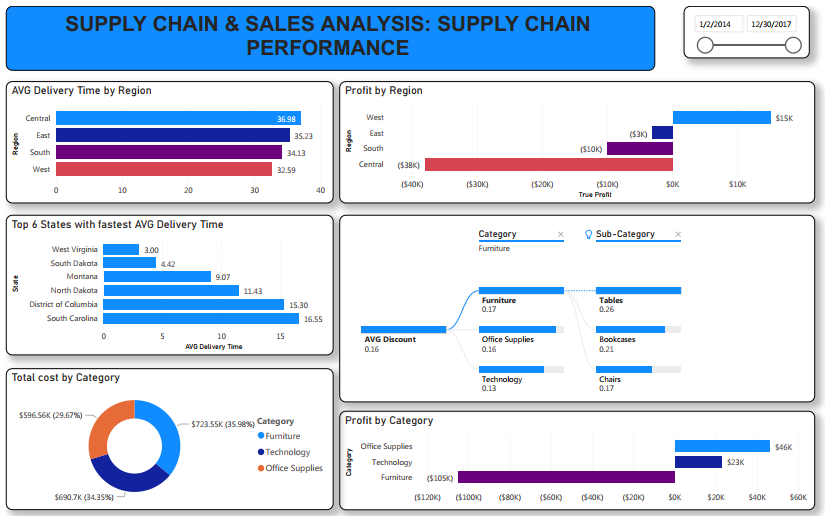

This screenshot's page, from the dashboard's own definition file:
{"tool":"powerbi","page":{"name":"Supply Chain Mangement","canvas":[1280,800],"ordinal":1},"visuals":[{"type":"textbox","box":[0,0,994.9,98.6],"z":0},{"type":"slicer","fields":{"Values":["Calendar.Date"]},"box":[1038.9,0,192.6,80.4],"z":1000},{"type":"clusteredBarChart","title":"Top 6 States with fastest AVG Delivery Time","fields":{"Y":["Measures (2).AVG Delivery Time"],"Category":["Supply Chain & Sales.State"]},"box":[0,320,502,215.4],"z":2000},{"type":"clusteredBarChart","fields":{"Y":["Measures (2).AVG Delivery Time"],"Category":["Supply Chain & Sales.Region"]},"box":[0,115.3,502,186.5],"z":3000},{"type":"clusteredBarChart","title":"Profit by Region","fields":{"Category":["Supply Chain & Sales.Region"],"Y":["Measures (2).True Profit"]},"box":[511.1,115.3,729.5,186.5],"z":4000},{"type":"clusteredBarChart","title":"Profit by Category","fields":{"Y":["Measures (2).True Profit"],"Category":["Supply Chain & Sales.Category"]},"box":[511.1,620.3,729.5,151.7],"z":5000},{"type":"donutChart","fields":{"Y":["Measures (2).Total cost"],"Category":["Supply Chain & Sales.Category"]},"box":[0,555.1,502,216.9],"z":6000},{"type":"decompositionTreeVisual","fields":{"Analyze":["Measures (2).AVG Discount"],"ExplainBy":["Supply Chain & Sales.Category","Supply Chain & Sales.Sub-Category"]},"box":[511.1,320,729.5,286.6],"z":7000}]}

Visuals, with their boxes in screenshot pixels (x1, y1, x2, y2), scaled from the page's 1280x800 canvas onto the 825x516 screenshot:
textbox: locate(0, 0, 641, 64)
slicer - Calendar.Date: locate(670, 0, 794, 52)
"Top 6 States with fastest AVG Delivery Time" clusteredBarChart: locate(0, 206, 324, 345)
clusteredBarChart - Measures (2).AVG Delivery Time x Supply Chain & Sales.Region: locate(0, 74, 324, 195)
"Profit by Region" clusteredBarChart: locate(329, 74, 800, 195)
"Profit by Category" clusteredBarChart: locate(329, 400, 800, 498)
donutChart - Measures (2).Total cost x Supply Chain & Sales.Category: locate(0, 358, 324, 498)
decompositionTreeVisual - Measures (2).AVG Discount x Supply Chain & Sales.Category: locate(329, 206, 800, 391)
